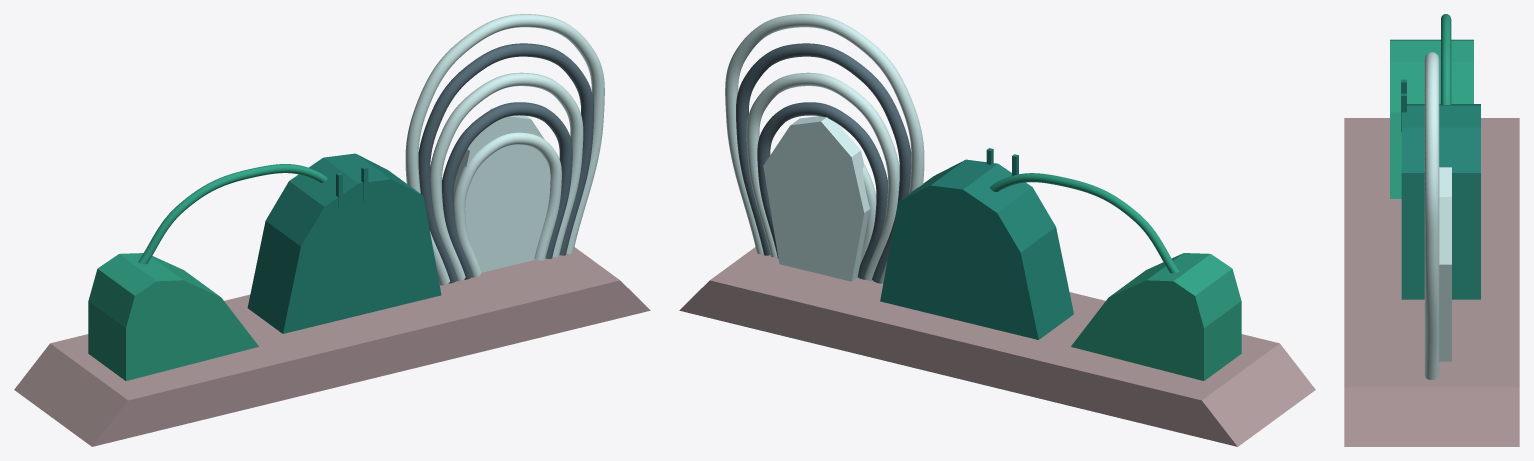
Rendered from sculpture.glb.
3 views of the same model, side by side, from view 1: azimuth 30°, elevation 25°; view 2: azimuth 150°, elevation 25°; view 3: azimuth 270°, elevation 25° (orthographic). The views are drawn at different scales.
Parts seen in each view (by area): view 1: Low trapezoid plinth, Tall teal center, Left rounded green form, Pale inner oval, Nested oval arch 0, Nested oval arch 1, Nested oval arch 2, Nested oval arch 3, Nested oval arch 4, Arch between green forms; view 2: Low trapezoid plinth, Tall teal center, Left rounded green form, Pale inner oval, Nested oval arch 0, Nested oval arch 1, Nested oval arch 2, Nested oval arch 3, Arch between green forms, Nested oval arch 4; view 3: Low trapezoid plinth, Tall teal center, Nested oval arch 0, Left rounded green form, Pale inner oval, Arch between green forms.
Boxes of the visible parts, box(x1,y1,x2,y2) form: Low trapezoid plinth: box(14, 247, 650, 446); Tall teal center: box(247, 153, 441, 333); Left rounded green form: box(88, 253, 258, 380); Pale inner oval: box(453, 108, 550, 272); Nested oval arch 0: box(405, 14, 604, 285); Nested oval arch 1: box(418, 43, 593, 283); Nested oval arch 2: box(430, 72, 583, 281); Nested oval arch 3: box(442, 102, 572, 279); Nested oval arch 4: box(453, 132, 561, 277); Arch between green forms: box(138, 164, 327, 264); Low trapezoid plinth: box(679, 247, 1315, 446); Tall teal center: box(880, 159, 1073, 339); Left rounded green form: box(1071, 253, 1241, 380); Pale inner oval: box(763, 116, 869, 281); Nested oval arch 0: box(725, 14, 924, 283); Nested oval arch 1: box(736, 43, 911, 283); Nested oval arch 2: box(746, 72, 899, 281); Nested oval arch 3: box(757, 102, 887, 279); Arch between green forms: box(990, 173, 1179, 273); Nested oval arch 4: box(860, 164, 876, 264); Low trapezoid plinth: box(1344, 118, 1519, 446); Tall teal center: box(1401, 104, 1480, 299); Nested oval arch 0: box(1424, 52, 1439, 379); Left rounded green form: box(1390, 39, 1473, 198); Pale inner oval: box(1439, 167, 1451, 361); Arch between green forms: box(1441, 14, 1451, 104).
Size of the model in its own units: 3.1 by 1.54 by 0.7501.
